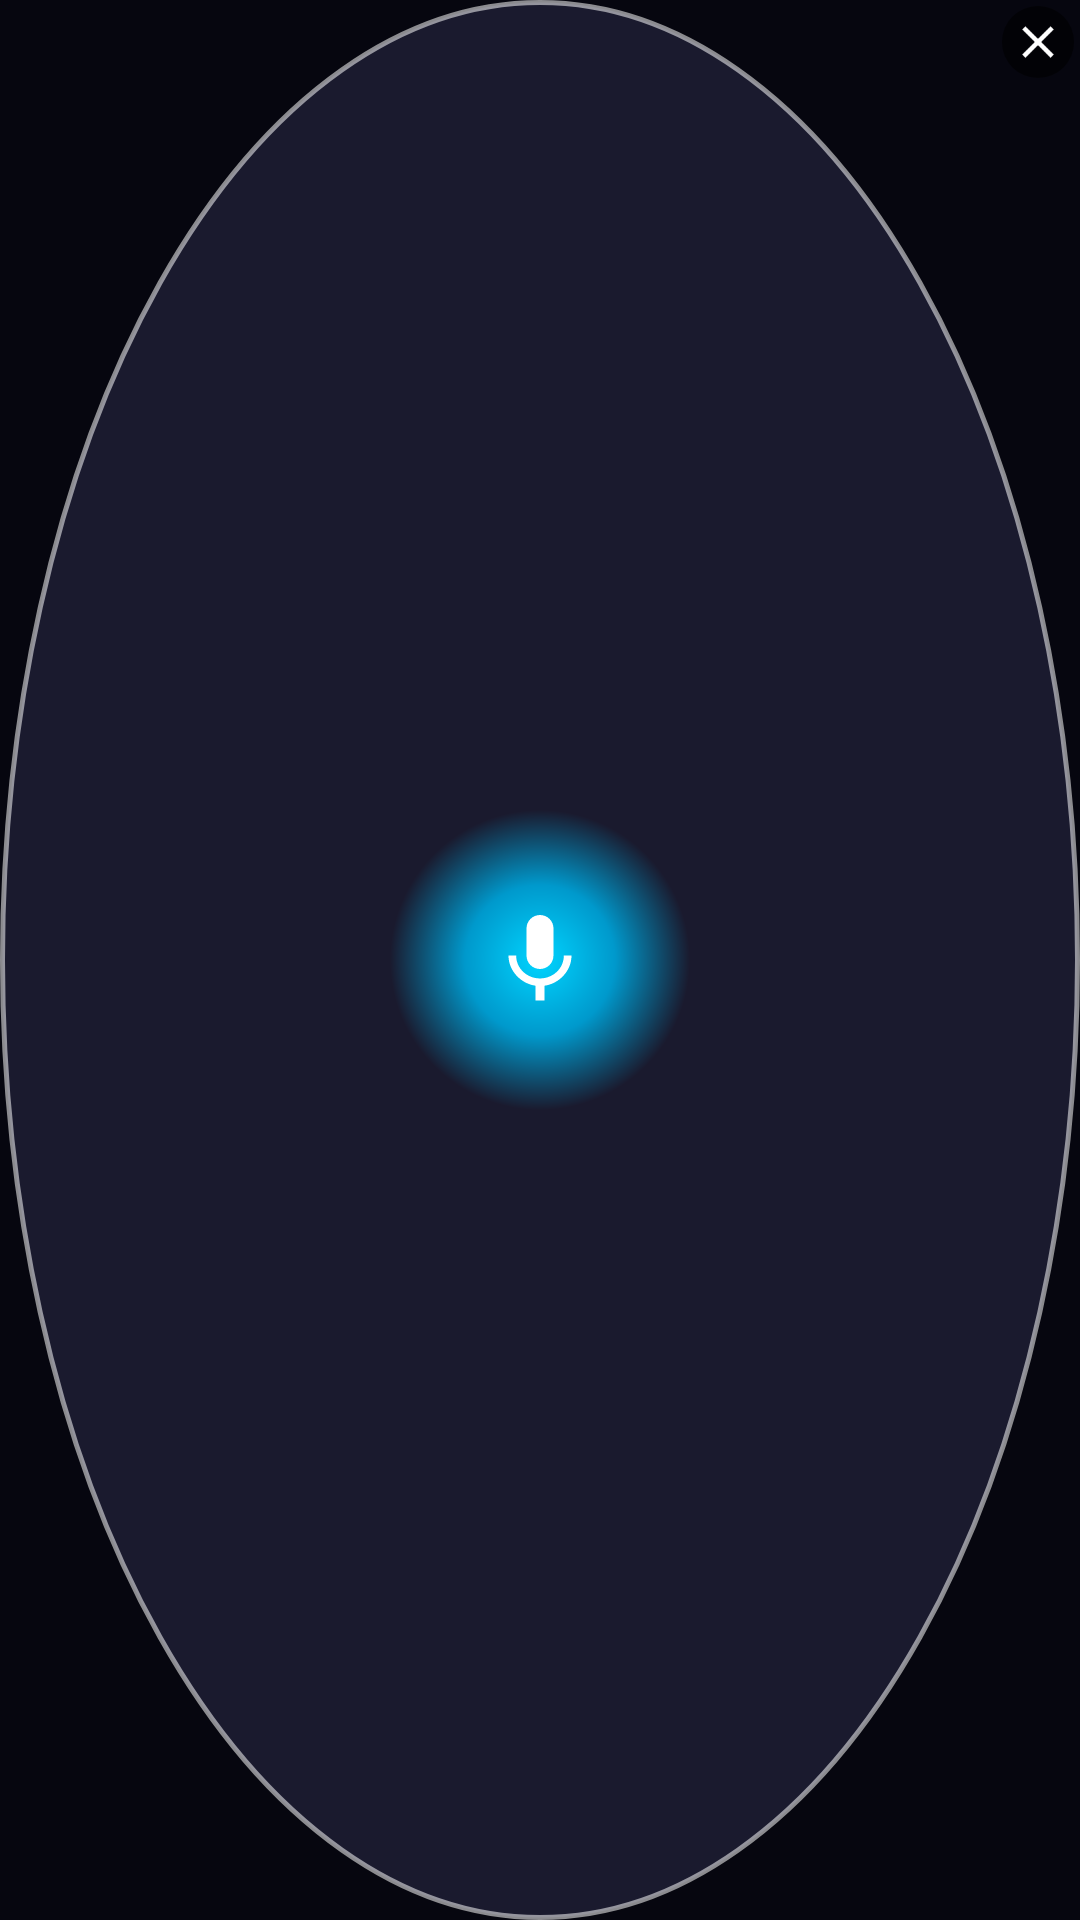

Named icons in this screenshot (1080px×1920px) and their centers, [x,y]:
关闭悬浮窗: [1038,41]
